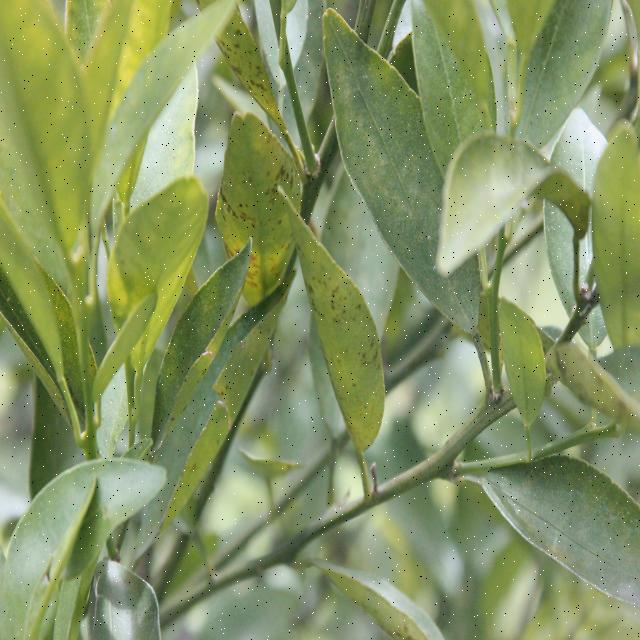blackspot: (338, 41, 441, 248), (164, 310, 266, 489), (297, 236, 377, 440), (218, 165, 296, 289)
